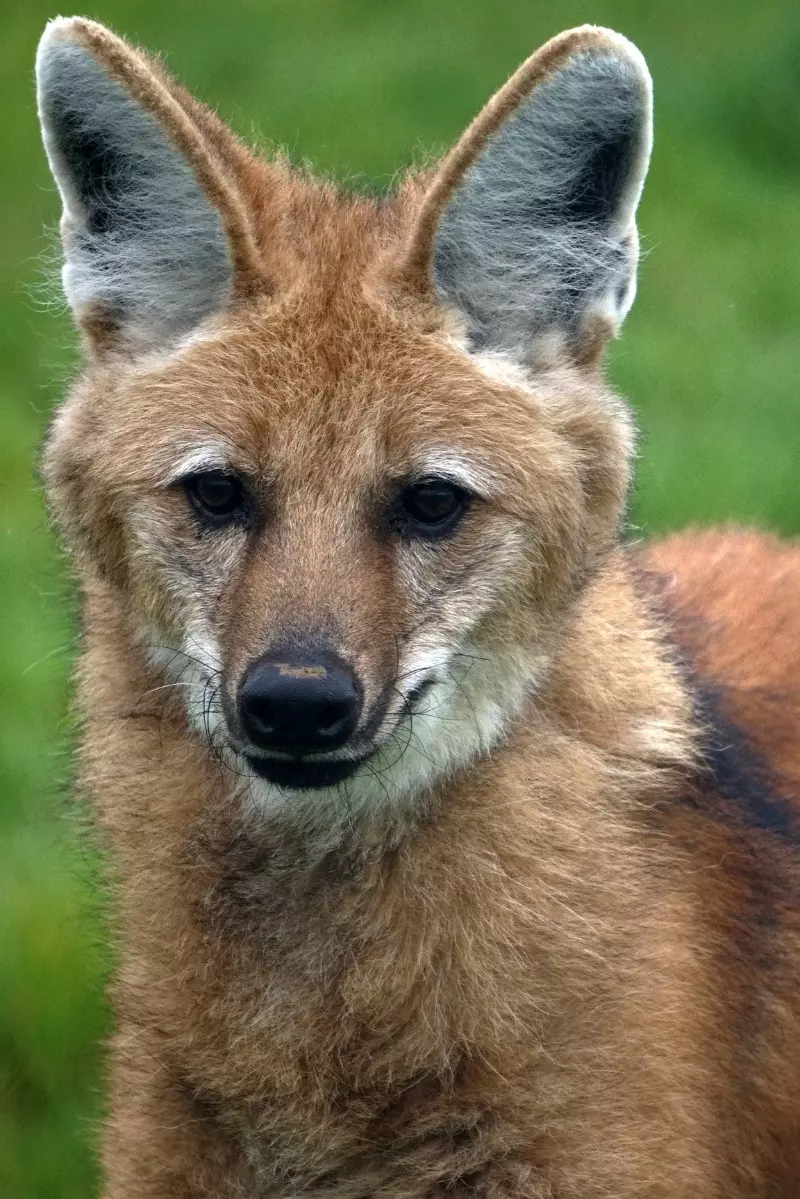LoboGuara: (16, 6, 780, 1181)
